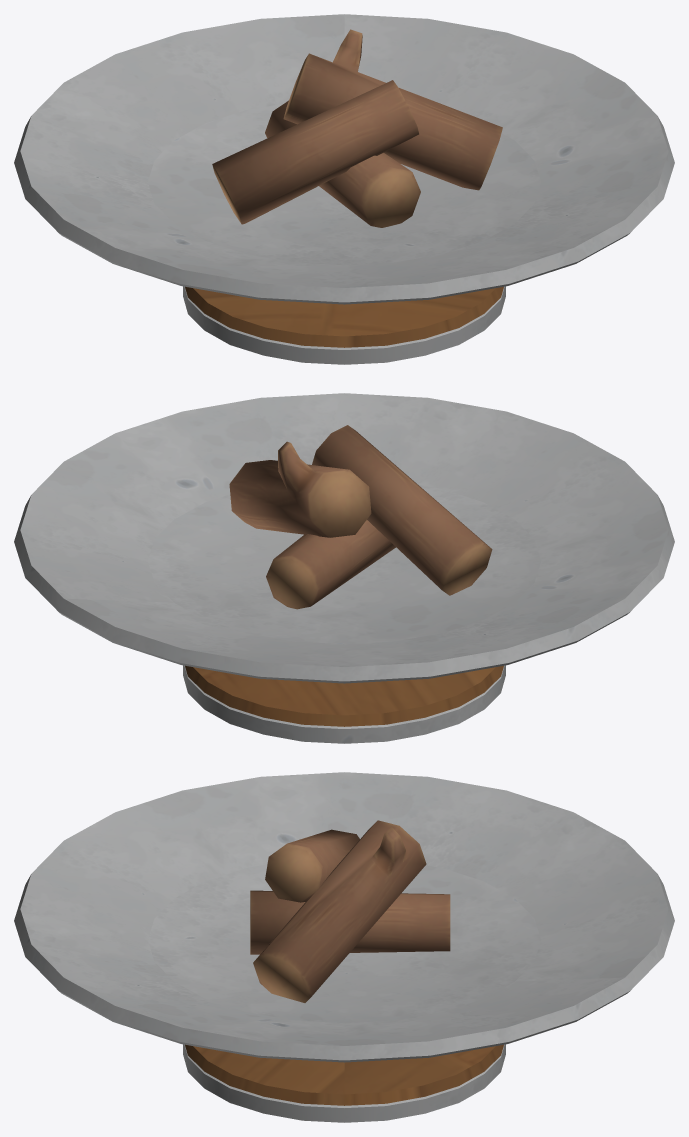
The model's file is ExteriorFireplace.glb.
3 views of the same model, one above another, from view 1: azimuth 30°, elevation 25°; view 2: azimuth 150°, elevation 25°; view 3: azimuth 270°, elevation 25° (orthographic).
Visible parts, largest first — view 1: FireplaceBase, stylizedFireWood01; view 2: FireplaceBase, stylizedFireWood01; view 3: FireplaceBase, stylizedFireWood01.
Boxes of the visible parts, bbox=[...] form: FireplaceBase: bbox=[14, 14, 674, 364]; stylizedFireWood01: bbox=[212, 29, 502, 227]; FireplaceBase: bbox=[14, 393, 674, 743]; stylizedFireWood01: bbox=[229, 425, 492, 609]; FireplaceBase: bbox=[14, 772, 674, 1122]; stylizedFireWood01: bbox=[250, 820, 450, 1002].
Size of what is drawn, in the model's own units: 2.07 by 0.838 by 2.07.
Materials: 3 (3 with a texture image).
